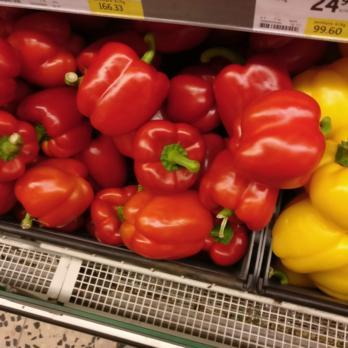Capsicum: (0, 49, 335, 232), (118, 182, 348, 251), (1, 13, 86, 52)
